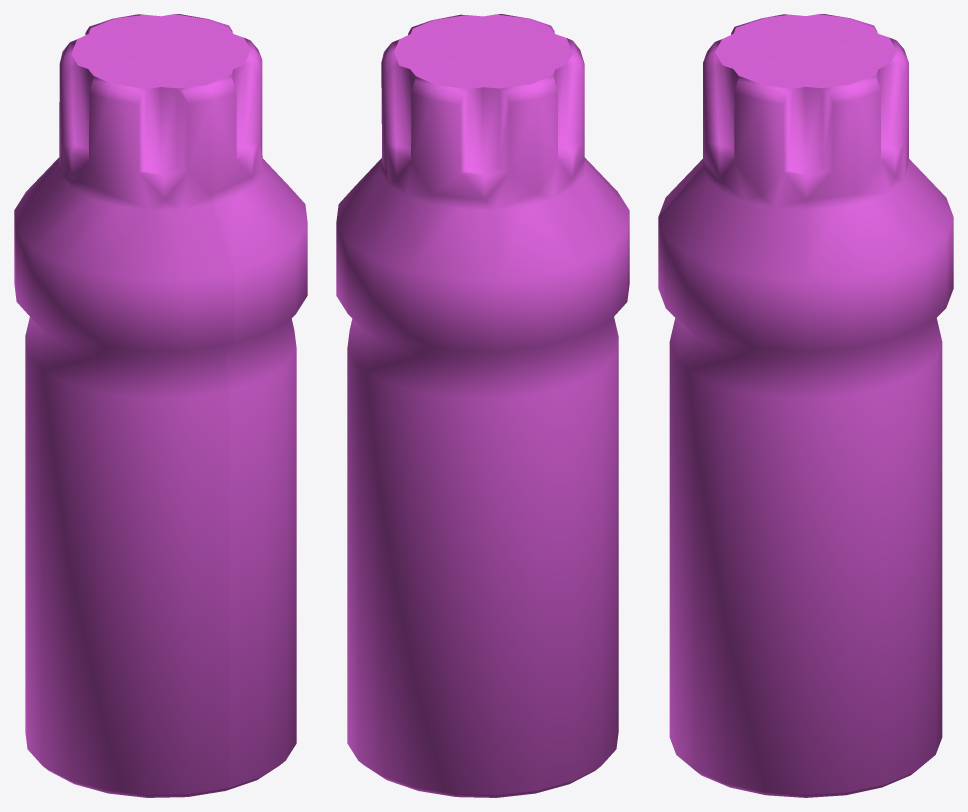
Rendered from FluidBottle_Prop.fbx.
3 renders of one model, left to right at view 1: azimuth 30°, elevation 25°; view 2: azimuth 150°, elevation 25°; view 3: azimuth 270°, elevation 25°, orthographic.
Parts seen in each view (by area): view 1: FluidBottle_mesh; view 2: FluidBottle_mesh; view 3: FluidBottle_mesh.
Boxes of the visible parts, bbox=[...] form: FluidBottle_mesh: bbox=[14, 14, 307, 797]; FluidBottle_mesh: bbox=[336, 14, 629, 797]; FluidBottle_mesh: bbox=[658, 14, 953, 797].
Bounding box in the file's own units: 80.45 × 208 × 80.45.
